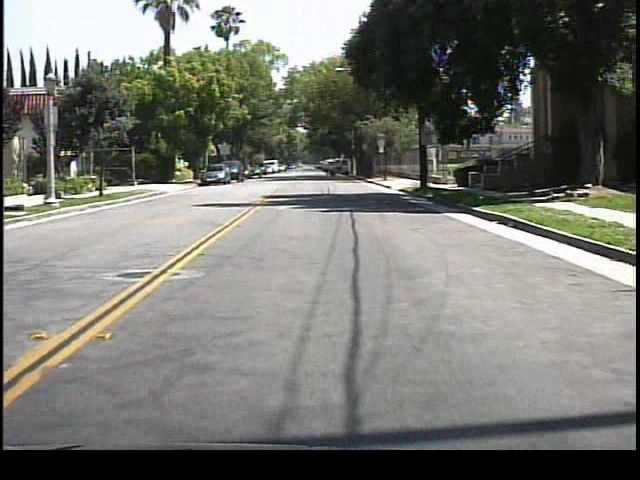person: (318, 156, 334, 182)
